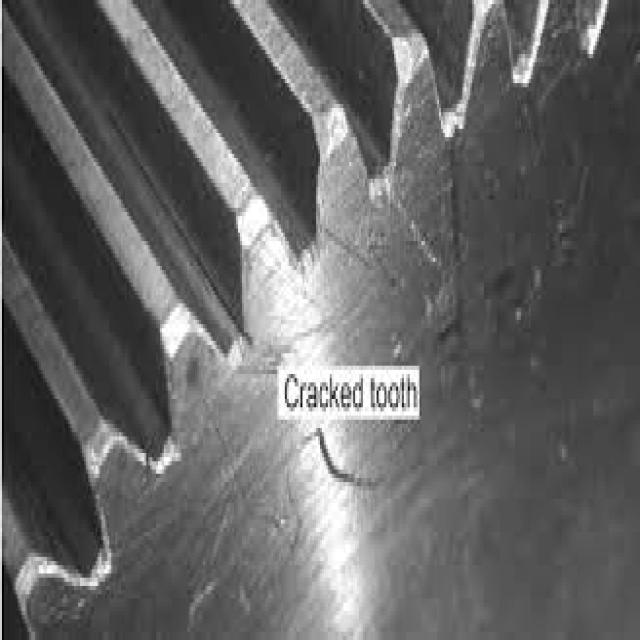Fault-Exist: (197, 361, 461, 597), (260, 340, 420, 568), (411, 134, 537, 373), (129, 169, 265, 384)
